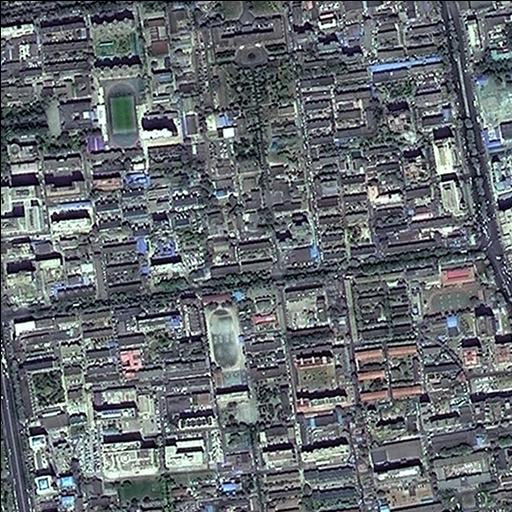school: (409, 264, 508, 318)
